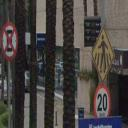speed_limit_20: (94, 84, 111, 122)
